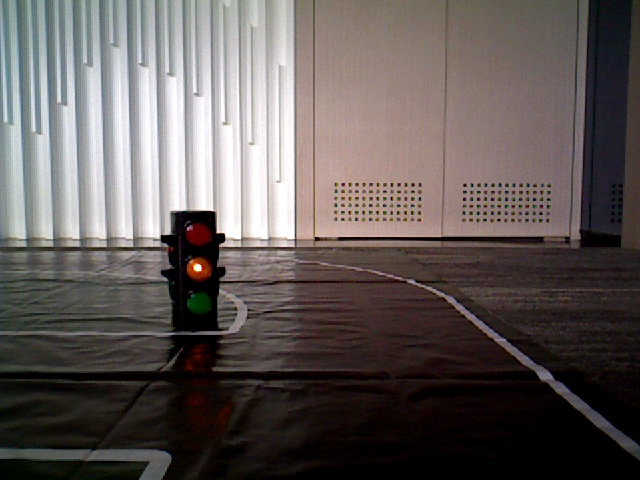yellow: (178, 215, 217, 321)
